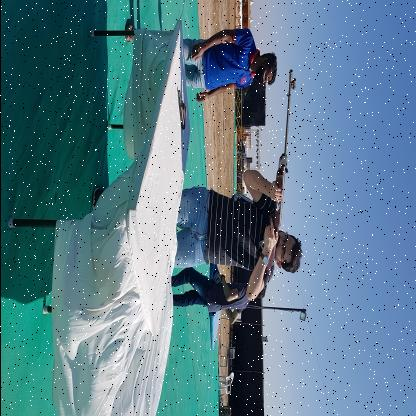rifle: (262, 67, 296, 276), (176, 89, 186, 131)
